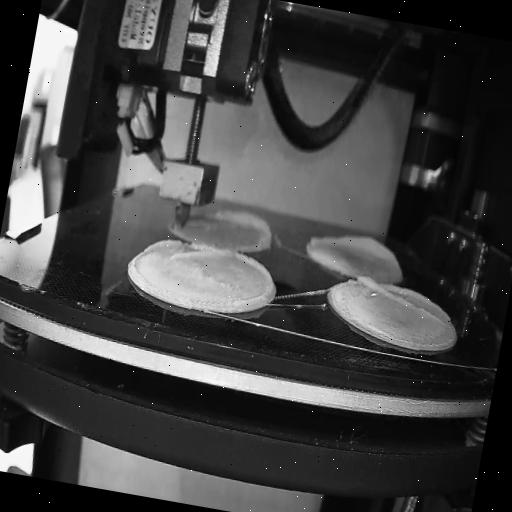over_extrusion: (351, 270, 449, 323), (305, 223, 403, 271), (224, 250, 280, 314), (142, 234, 226, 270), (206, 205, 276, 248)
